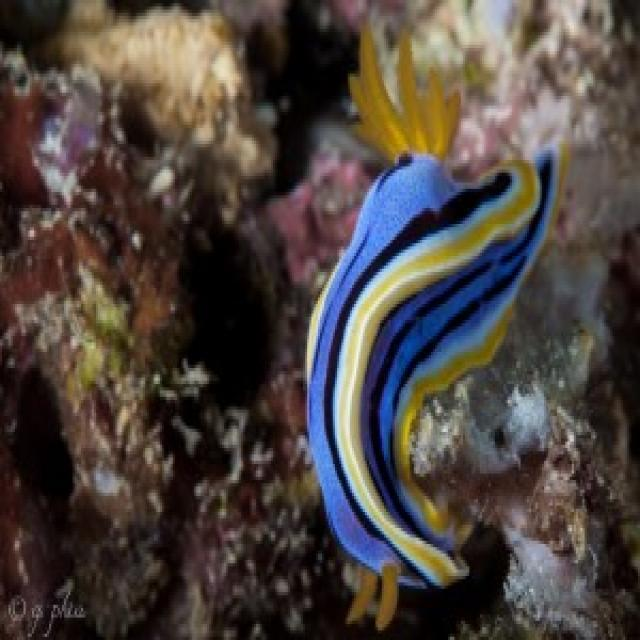Bleached: (416, 174, 640, 483), (60, 1, 276, 229), (365, 1, 610, 172), (506, 526, 599, 640)
Healthy: (1, 372, 308, 638), (1, 71, 179, 371), (272, 147, 369, 287)
